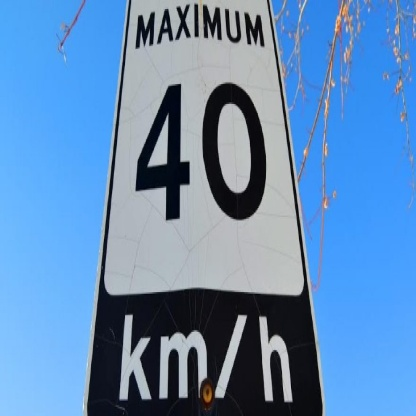limit1: (83, 2, 322, 414)
